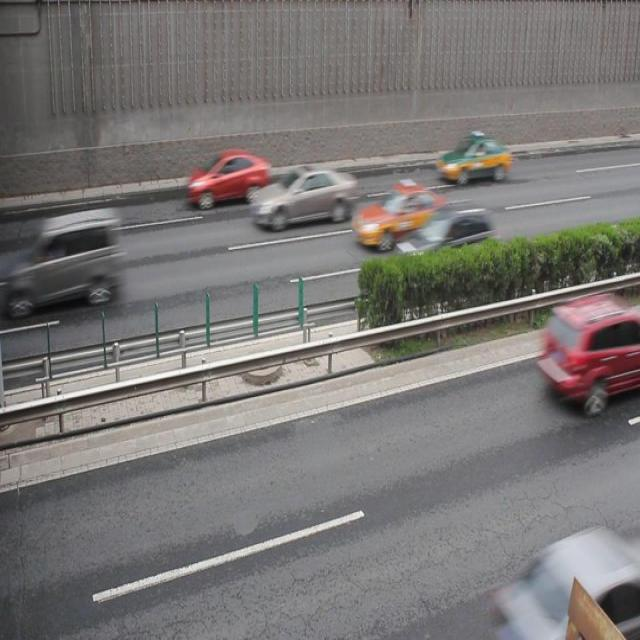car: (487, 531, 640, 640), (536, 294, 640, 407), (249, 160, 356, 230), (398, 202, 491, 278), (353, 178, 448, 248), (184, 148, 270, 208), (436, 130, 511, 185)
truck: (13, 207, 122, 313)
